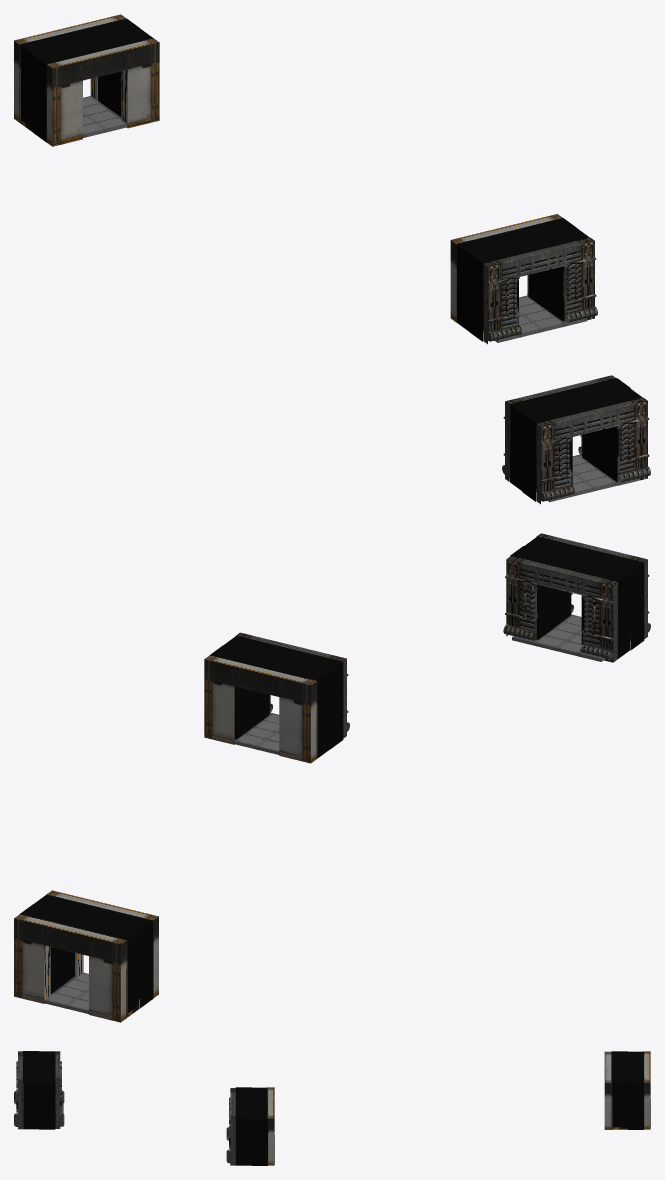
Rendered from DoorWays.fbx.
The picture shows the model from 3 angles, top to bottom: view 1: azimuth 30°, elevation 25°; view 2: azimuth 150°, elevation 25°; view 3: azimuth 270°, elevation 25°; orthographic projection. The views are drawn at different scales.
Parts seen in each view (by area): view 1: polySurface52, polySurface53, Wall5; view 2: polySurface52, polySurface53, Wall5; view 3: Wall5, polySurface52, polySurface53.
Boxes of the visible parts, x1=… form: polySurface52: x1=14, y1=14, x2=159, y2=146; polySurface53: x1=450, y1=214, x2=597, y2=344; Wall5: x1=502, y1=375, x2=650, y2=504; polySurface52: x1=14, y1=890, x2=158, y2=1022; polySurface53: x1=204, y1=632, x2=349, y2=763; Wall5: x1=503, y1=533, x2=650, y2=662; Wall5: x1=14, y1=1051, x2=64, y2=1129; polySurface52: x1=604, y1=1051, x2=650, y2=1129; polySurface53: x1=226, y1=1087, x2=274, y2=1165.
Size of the model in its own units: 28.61 by 9.23 by 113.
